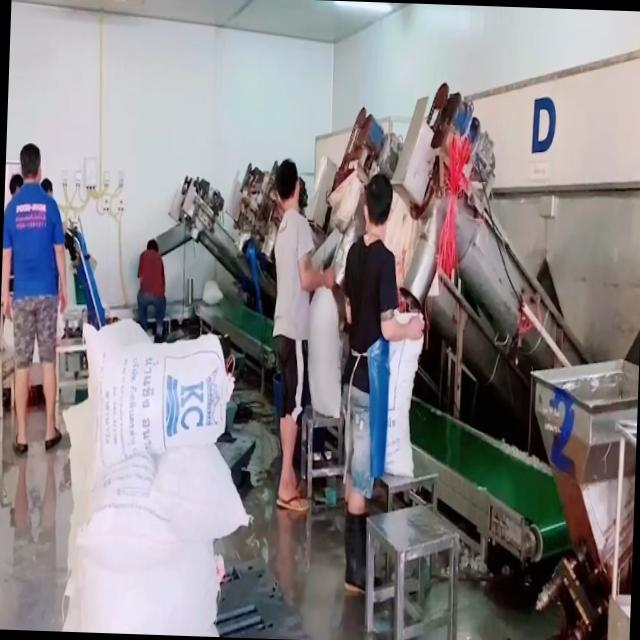ice-bag: (78, 320, 239, 472)
